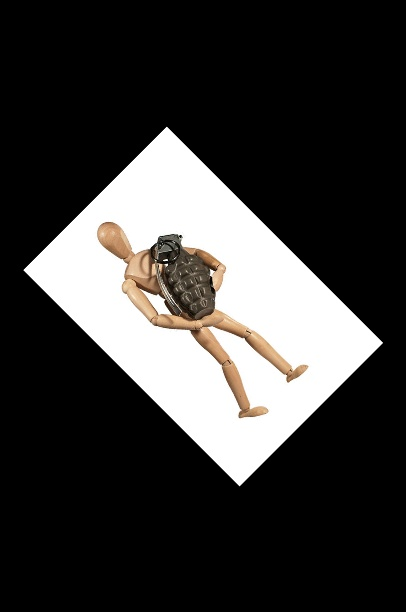e1: (152, 228, 219, 320)
